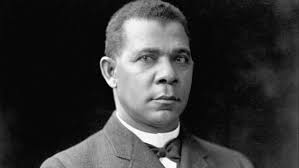black_male: (116, 8, 196, 126)
